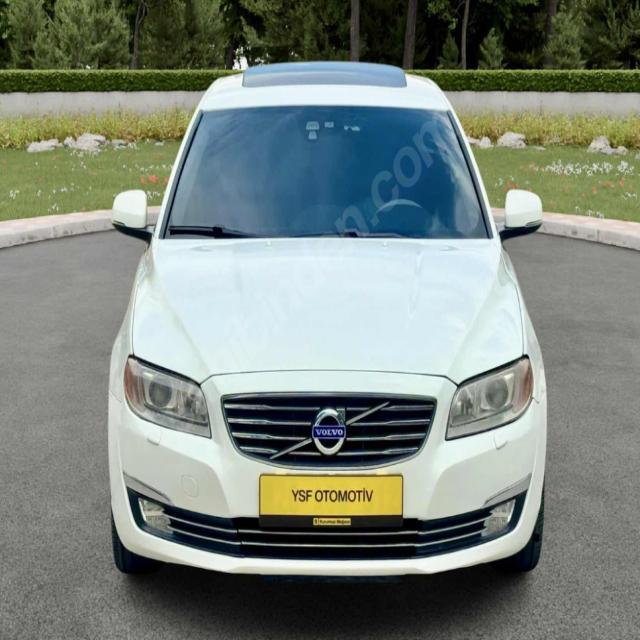volvo: (310, 404, 352, 458)
